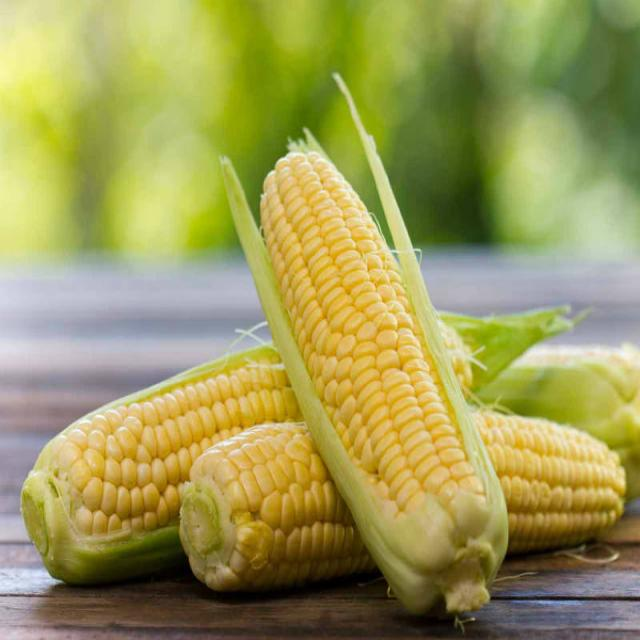corn: (261, 136, 496, 584), (42, 342, 301, 546)
